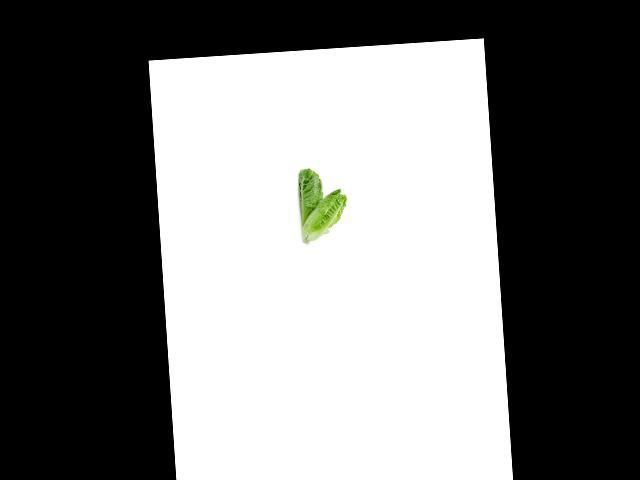lettuce: (292, 162, 326, 228)
